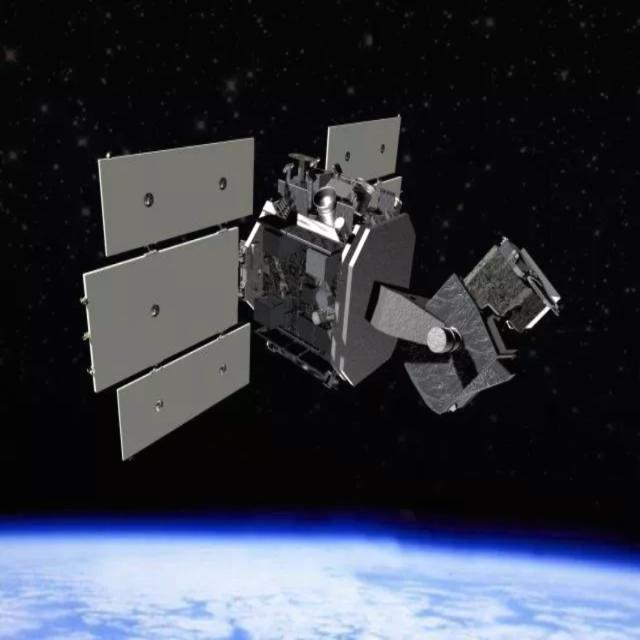medium_debris: (72, 101, 566, 464)
